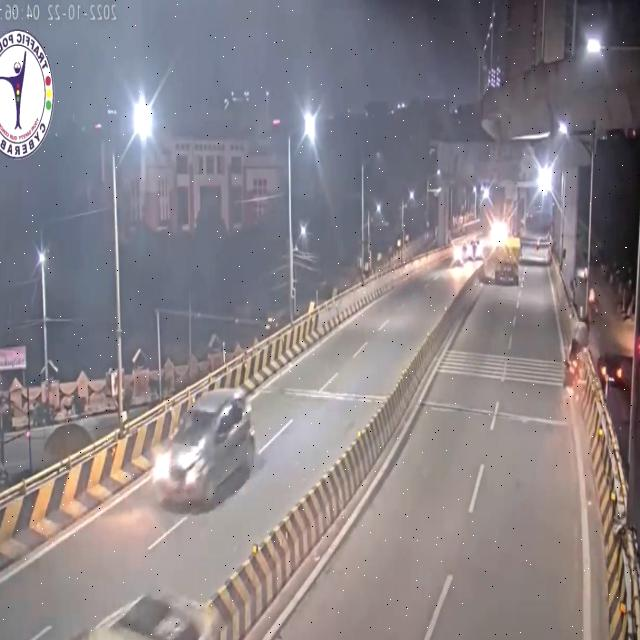accident: (559, 310, 593, 395)
